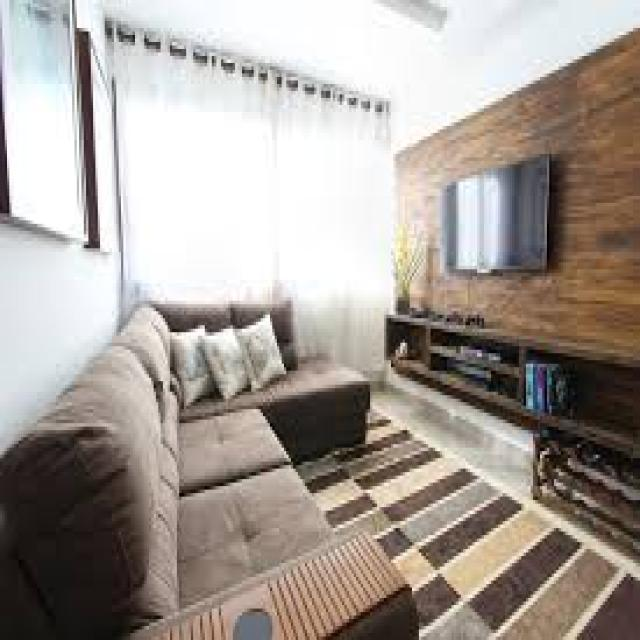Sofa: (1, 296, 412, 640)
tv: (434, 151, 552, 283)
window: (112, 40, 396, 285)
